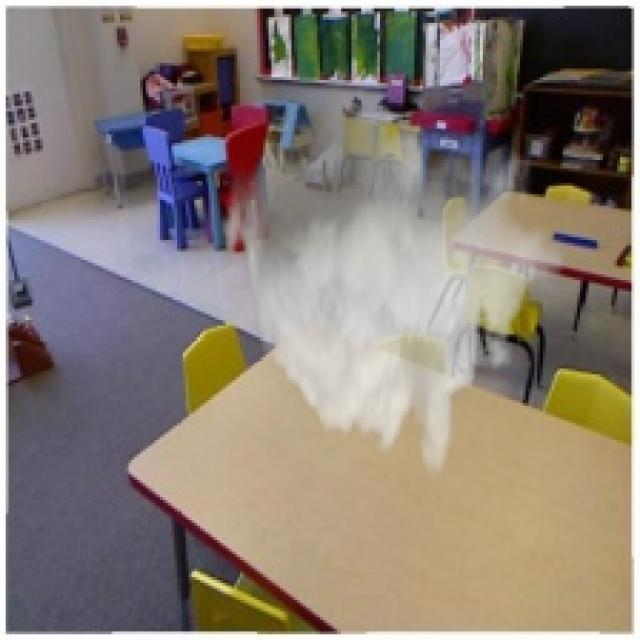Smoke: (217, 74, 566, 480)
